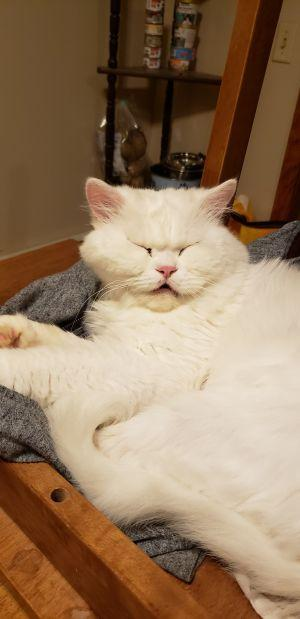persian: (79, 165, 246, 323)
